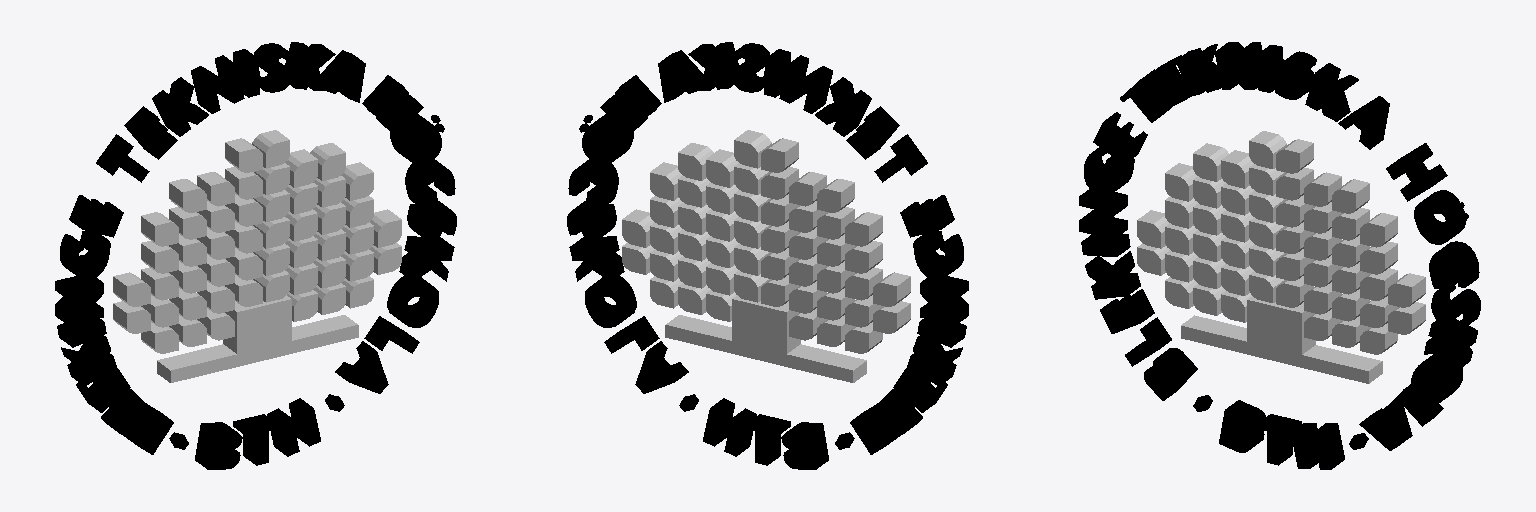
File: bth.obj
3 renders of one model, left to right at view 1: azimuth 30°, elevation 25°; view 2: azimuth 150°, elevation 25°; view 3: azimuth 330°, elevation 25°, orthographic.
Parts seen in each view (by area): view 1: BTH, BTH2; view 2: BTH, BTH2; view 3: BTH, BTH2.
Part boxes in pixels (left/top/right/bottom): BTH: left=113, top=130, right=401, bottom=382; BTH2: left=55, top=42, right=456, bottom=469; BTH: left=622, top=130, right=910, bottom=382; BTH2: left=567, top=42, right=968, bottom=469; BTH: left=1137, top=131, right=1425, bottom=383; BTH2: left=1079, top=42, right=1480, bottom=469.
Bounding box in the file's own units: 99.83 × 99.85 × 6.21.